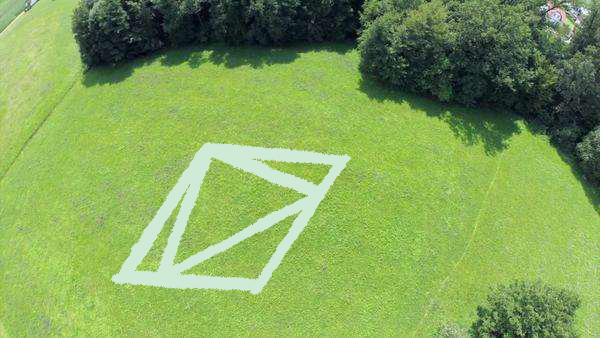marker: (107, 139, 353, 298)
